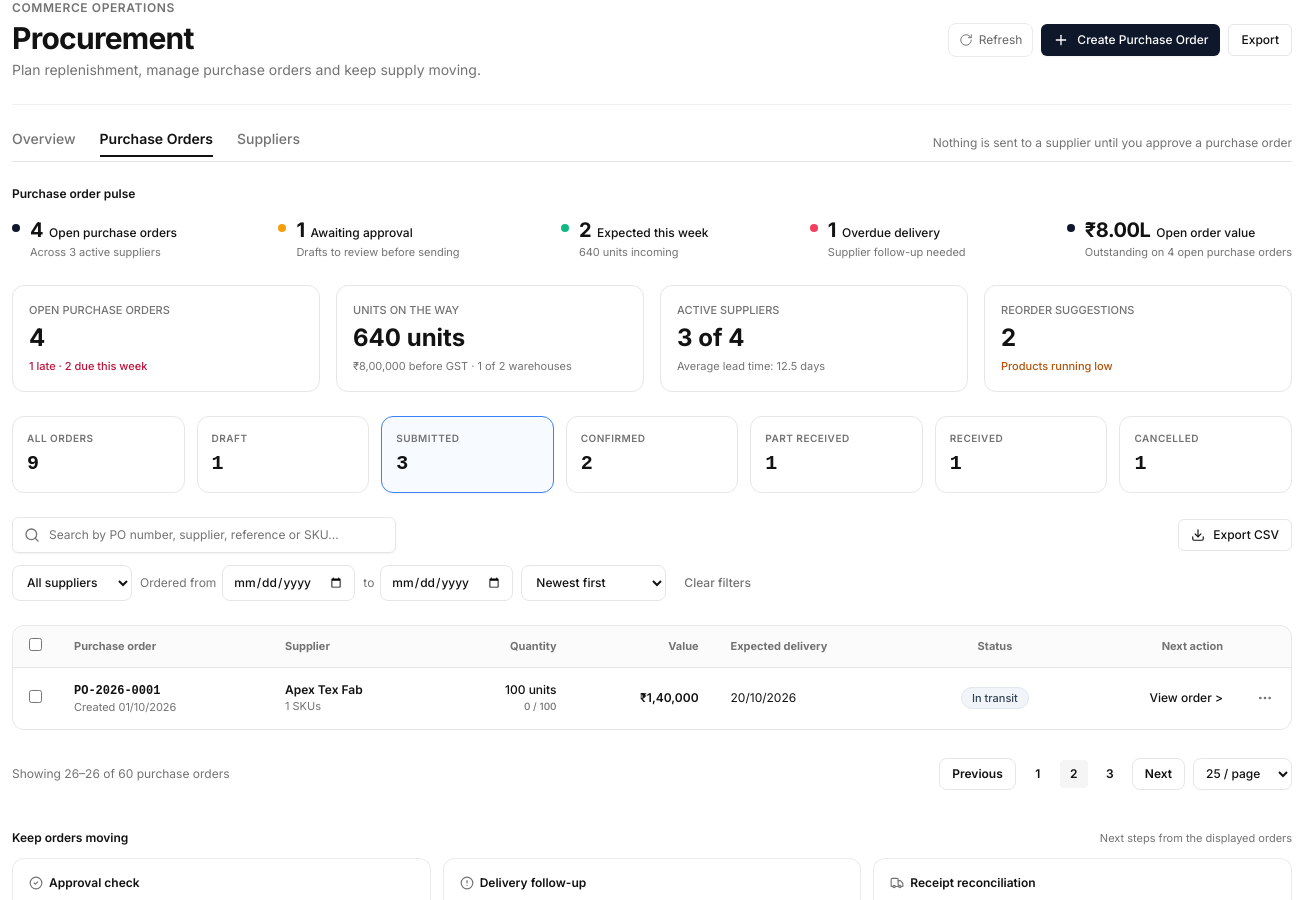
ProcurementPage: purchase orders › opens in the state the URL describes and pages with numbered buttons
Expected: the row with test id "po-row-PO-2026-0001" is shown, 13,667 -> 1291,728
Expected: the text "Showing 26–26 of 60 purchase orders" is shown, 12,766 -> 230,782
Click the button named "Page 3": (1110, 774) 1096,760 -> 1124,788
(page scrolled)
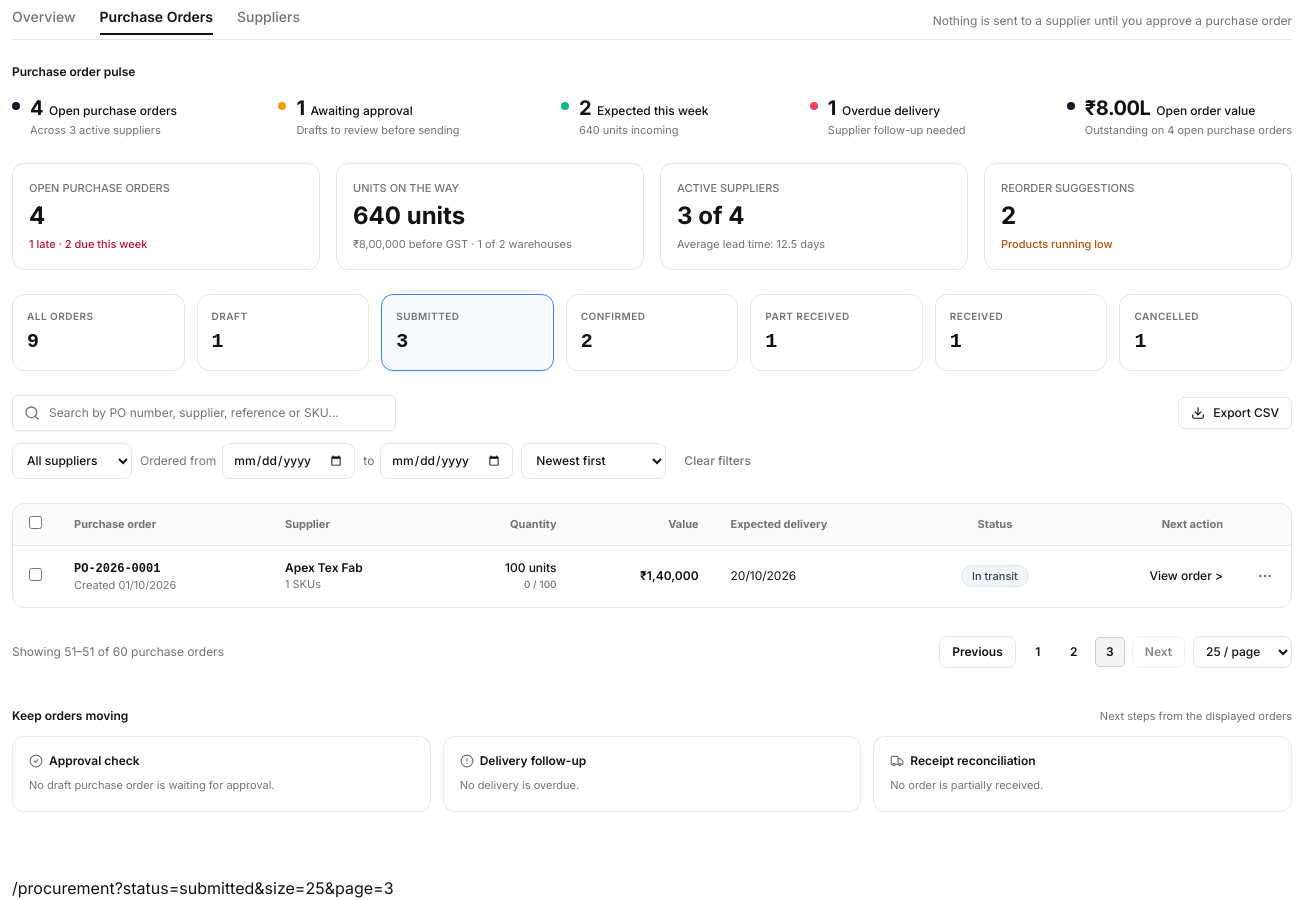
Expected: the text with test id "loc" shows "page=3", 12,878 -> 394,898
